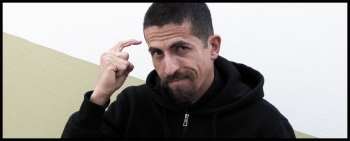hand: (99, 39, 142, 91)
